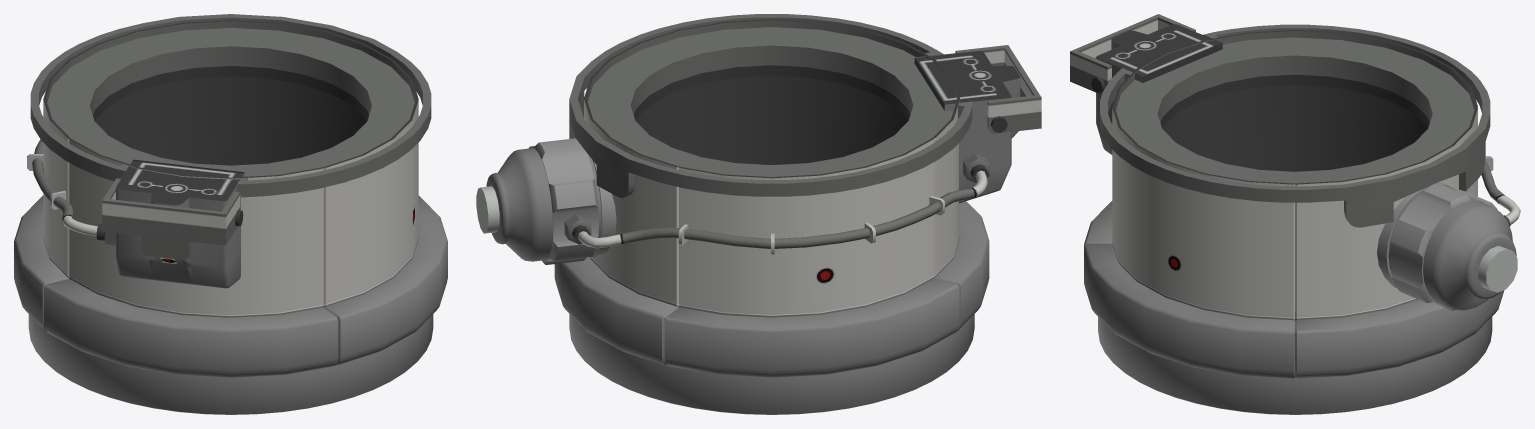
Rendered from gel_reflection.glb.
The picture shows the model from 3 angles, left to right: view 1: azimuth 30°, elevation 25°; view 2: azimuth 150°, elevation 25°; view 3: azimuth 270°, elevation 25°; orthographic projection. The views are drawn at different scales.
Parts seen in each view (by area): view 1: EDITOR_paint_dropper.004; view 2: EDITOR_paint_dropper.004; view 3: EDITOR_paint_dropper.004.
Boxes of the visible parts, x1,y1,x2,y2 form: EDITOR_paint_dropper.004: (14, 14, 447, 414); EDITOR_paint_dropper.004: (476, 14, 1041, 414); EDITOR_paint_dropper.004: (1070, 14, 1520, 414).
Size of the model in its own units: 1.52 by 0.894 by 1.54.
Materials: 1 (1 with a texture image).
